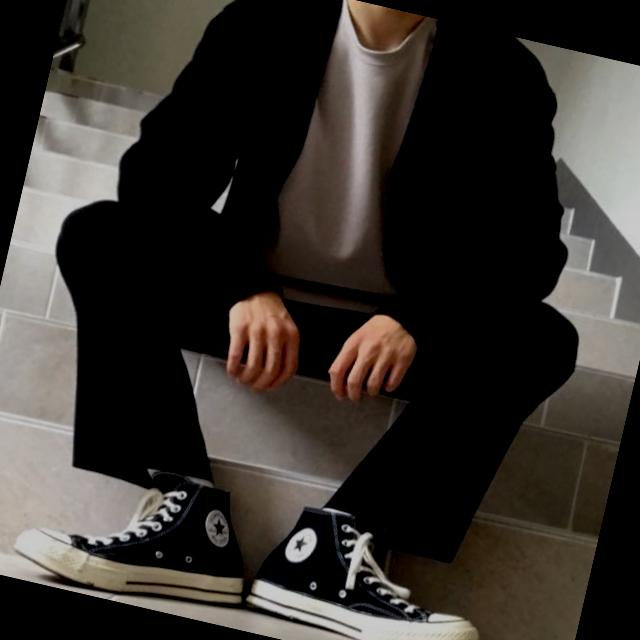cardigan: (90, 0, 611, 385)
slacks: (4, 185, 590, 580)
